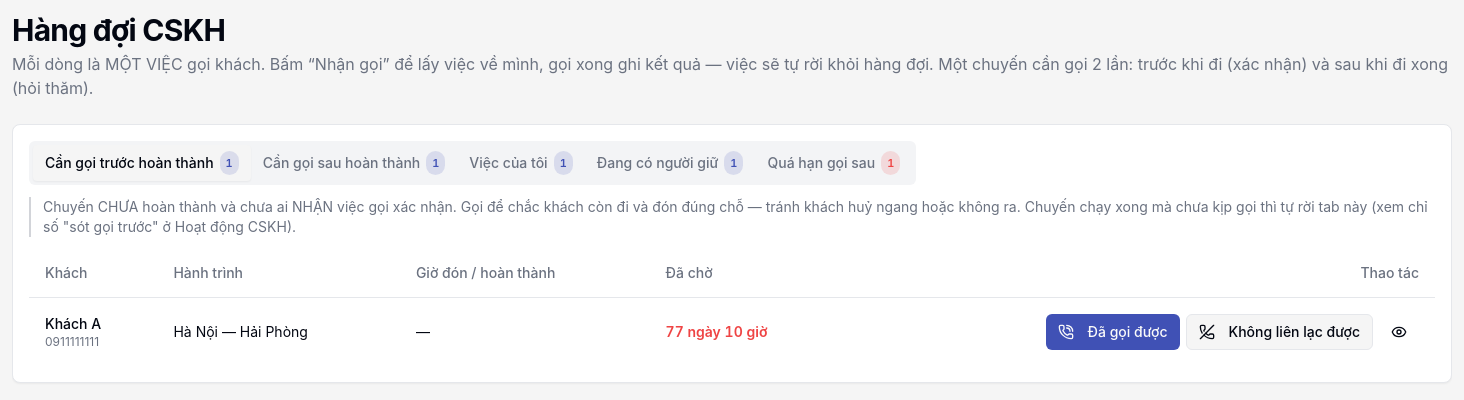
Test: CrmQueuePage — tab "Việc của tôi" chứa lẫn CẢ HAI pha › cột "Người giữ việc" hiện tên người giữ pha TRƯỚC, không phải gạch ngang
Click the tab "Việc của tôi 1": (521, 163) [457,145,585,181]
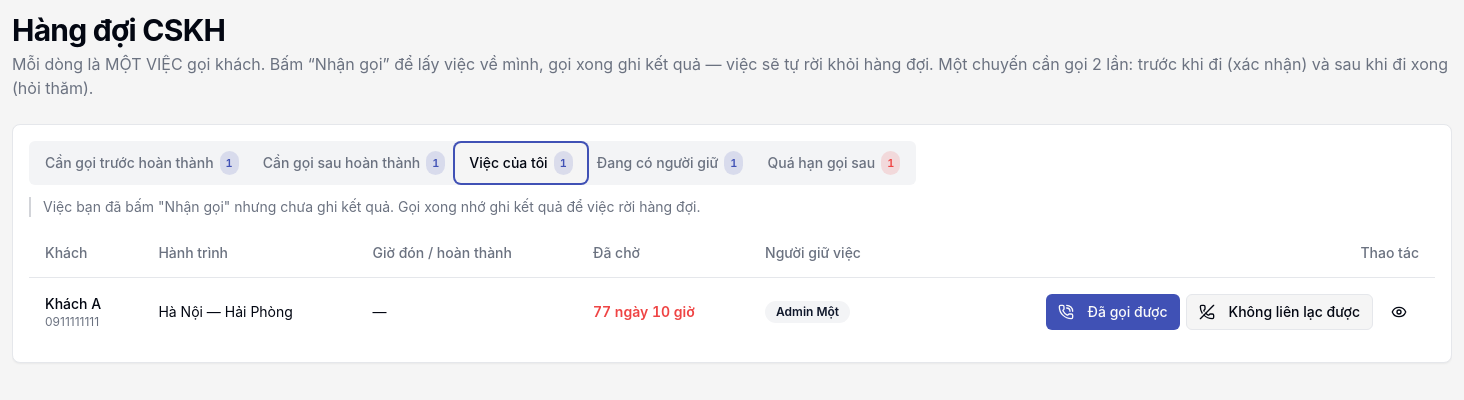
Expected: the text "Admin Một" is shown, [765,300,850,322]
